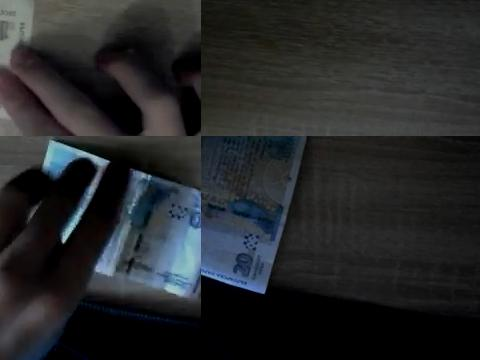20leva: (201, 136, 308, 293), (104, 169, 201, 297)
